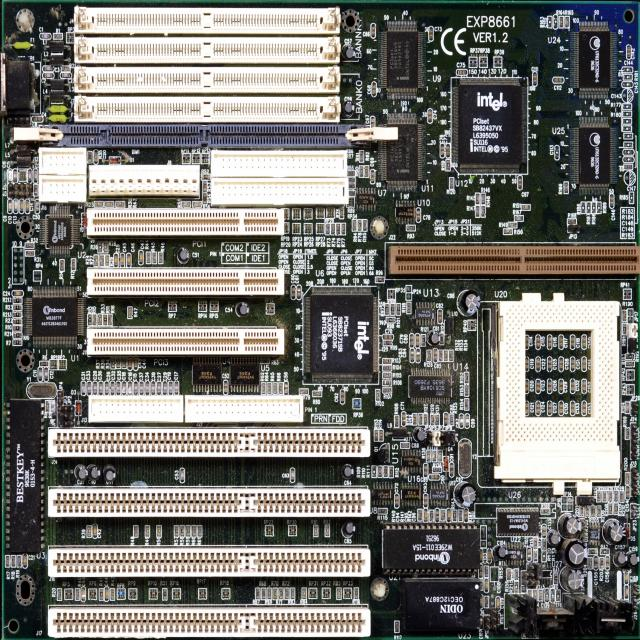Capacitor Jumper: (428, 331, 439, 345), (546, 376, 554, 394), (569, 354, 576, 372), (178, 467, 186, 482), (554, 144, 560, 164), (625, 46, 633, 60), (622, 79, 633, 89), (582, 376, 588, 394), (546, 357, 553, 372), (580, 357, 587, 372), (535, 378, 542, 393), (558, 355, 564, 372), (581, 399, 587, 416), (570, 399, 576, 416), (570, 334, 576, 350), (581, 334, 587, 350), (535, 400, 541, 416), (104, 586, 110, 602), (547, 332, 552, 351), (127, 379, 133, 394), (122, 380, 128, 395), (558, 401, 564, 416), (422, 463, 428, 478), (526, 547, 532, 562), (624, 570, 630, 585), (12, 168, 18, 183), (7, 199, 13, 214), (156, 379, 162, 393), (161, 381, 167, 395), (593, 556, 599, 570), (495, 596, 501, 610), (42, 73, 54, 80), (532, 72, 538, 86), (517, 177, 524, 189), (19, 199, 25, 213), (24, 200, 30, 214), (120, 254, 126, 268), (290, 286, 296, 300), (559, 334, 564, 350), (536, 357, 541, 373), (525, 378, 530, 394), (570, 378, 575, 394), (139, 379, 144, 395), (116, 380, 121, 396), (465, 413, 470, 429), (554, 76, 564, 84), (37, 368, 43, 381), (370, 115, 376, 128), (416, 209, 422, 222), (40, 33, 51, 40), (415, 333, 420, 348), (394, 493, 399, 508), (624, 585, 629, 600), (550, 588, 555, 603), (409, 334, 414, 348), (410, 349, 415, 363), (416, 349, 421, 363), (525, 402, 530, 416), (443, 412, 448, 426), (449, 463, 454, 477), (23, 554, 28, 568), (484, 578, 489, 592), (478, 595, 483, 609), (371, 82, 376, 96), (94, 150, 99, 164), (126, 254, 131, 268), (291, 468, 295, 485), (429, 474, 440, 480), (60, 73, 71, 79), (433, 349, 438, 362), (133, 356, 138, 369), (93, 381, 98, 394), (610, 195, 615, 208), (525, 334, 529, 350), (559, 378, 563, 394), (169, 380, 173, 396), (284, 382, 288, 398), (547, 400, 551, 416), (152, 379, 156, 394), (134, 380, 138, 395), (224, 380, 228, 395), (146, 381, 150, 396), (402, 411, 406, 426), (459, 415, 464, 427), (447, 508, 451, 523), (545, 587, 549, 602), (43, 64, 53, 70), (622, 67, 632, 73), (34, 168, 38, 183), (35, 200, 40, 212), (296, 286, 301, 298), (12, 290, 22, 296), (536, 335, 540, 349), (100, 380, 104, 394), (105, 380, 109, 394), (174, 381, 178, 395), (82, 382, 86, 396), (435, 508, 439, 522), (82, 588, 86, 602), (428, 109, 432, 123), (441, 144, 445, 158), (448, 144, 452, 158), (28, 169, 32, 183), (44, 368, 48, 381), (424, 494, 428, 507), (424, 509, 428, 522), (94, 525, 98, 538), (542, 525, 546, 538), (371, 170, 375, 183), (14, 200, 18, 213), (554, 16, 558, 29), (139, 250, 143, 263), (372, 23, 376, 36), (430, 28, 434, 40), (128, 356, 132, 368), (526, 356, 529, 372), (111, 382, 115, 394), (464, 510, 468, 522), (487, 550, 491, 562), (606, 557, 610, 569), (456, 70, 468, 74), (8, 169, 12, 181), (438, 310, 442, 322), (382, 335, 393, 339), (626, 486, 629, 500), (479, 564, 482, 578), (88, 382, 91, 395), (115, 254, 118, 266), (480, 550, 482, 562), (480, 616, 482, 628)
Connector: (48, 545, 372, 577), (49, 488, 369, 518), (17, 124, 380, 148), (49, 430, 370, 456), (73, 64, 343, 94), (51, 608, 365, 632), (74, 6, 340, 34), (77, 97, 339, 121), (75, 39, 338, 62), (86, 327, 286, 357), (89, 267, 284, 297), (91, 396, 303, 422), (87, 210, 283, 234), (213, 151, 349, 177), (212, 179, 348, 204), (90, 164, 200, 193), (40, 148, 86, 175), (37, 180, 87, 200)
IC: (450, 76, 528, 176), (305, 283, 379, 381), (4, 401, 45, 553), (382, 519, 480, 574), (400, 580, 480, 634), (25, 286, 86, 346), (380, 21, 426, 100), (378, 116, 426, 187), (571, 25, 619, 94), (575, 116, 618, 192), (41, 206, 80, 256), (406, 367, 454, 405), (192, 357, 223, 395), (496, 509, 536, 534), (371, 480, 394, 506), (400, 450, 422, 474), (357, 187, 378, 211), (430, 483, 451, 506), (396, 201, 416, 224), (415, 304, 436, 324), (401, 484, 420, 506)
Resistor Jumper: (312, 523, 319, 540), (55, 588, 63, 601), (345, 186, 355, 196), (161, 586, 167, 602), (272, 383, 279, 396), (74, 587, 80, 602), (417, 508, 423, 522), (53, 32, 63, 40), (260, 357, 270, 365), (382, 364, 392, 372), (87, 525, 93, 538), (353, 587, 359, 600), (375, 390, 381, 402), (388, 465, 394, 477), (376, 466, 382, 478), (619, 491, 625, 503), (532, 550, 538, 562), (541, 550, 547, 562), (336, 588, 342, 600), (623, 103, 631, 112), (622, 124, 631, 132), (94, 200, 103, 208), (586, 203, 592, 215), (514, 214, 523, 222), (378, 508, 388, 515), (623, 74, 633, 81), (201, 174, 211, 181), (520, 204, 530, 211), (475, 205, 480, 219), (406, 224, 416, 231), (587, 558, 593, 569), (87, 151, 93, 162), (340, 208, 346, 219), (567, 218, 578, 224), (97, 242, 103, 253), (375, 277, 386, 283), (379, 429, 384, 442), (452, 509, 457, 522), (285, 587, 290, 600), (359, 150, 364, 163), (560, 16, 565, 29), (508, 222, 517, 229), (443, 349, 448, 361), (122, 356, 127, 368), (625, 361, 635, 367), (382, 380, 392, 386), (261, 381, 266, 393), (267, 383, 272, 395), (279, 383, 284, 395), (382, 387, 392, 393), (50, 400, 55, 412), (412, 413, 417, 425), (394, 416, 399, 428), (625, 428, 630, 440), (400, 442, 410, 448), (432, 449, 437, 461), (372, 466, 377, 478), (383, 466, 388, 478), (429, 510, 434, 522), (324, 524, 329, 536), (145, 524, 150, 536), (156, 526, 162, 536), (588, 548, 598, 554), (5, 555, 10, 567), (17, 556, 22, 568), (256, 587, 261, 599), (291, 588, 296, 600), (61, 66, 71, 72), (449, 177, 454, 189), (33, 184, 38, 196), (629, 192, 634, 204), (104, 202, 114, 208), (591, 202, 596, 214), (100, 254, 105, 266), (93, 255, 98, 267), (12, 304, 22, 310), (396, 304, 401, 316), (13, 332, 21, 339), (100, 588, 104, 602), (268, 588, 272, 602), (128, 305, 132, 319), (116, 357, 121, 368), (464, 399, 469, 410), (374, 430, 379, 441), (596, 491, 601, 502), (590, 506, 595, 517), (514, 569, 519, 580), (506, 569, 511, 580), (278, 587, 283, 598), (538, 590, 543, 601), (624, 156, 635, 161), (481, 193, 486, 204), (475, 193, 480, 204), (115, 202, 126, 207), (564, 17, 569, 28), (152, 252, 157, 263), (105, 255, 110, 266), (60, 260, 65, 271), (626, 354, 635, 360), (383, 358, 392, 364), (40, 361, 49, 367), (541, 508, 550, 514), (503, 228, 512, 234), (25, 243, 34, 249), (25, 250, 34, 256), (13, 297, 22, 303), (13, 311, 22, 317), (438, 450, 442, 463), (614, 489, 618, 502), (198, 524, 202, 537), (181, 525, 185, 538), (581, 201, 585, 214), (104, 241, 108, 254), (72, 258, 76, 271), (382, 340, 392, 345), (464, 386, 469, 396), (600, 549, 610, 554), (514, 582, 519, 592), (622, 112, 632, 117), (624, 133, 634, 138), (624, 143, 634, 148), (192, 201, 202, 206), (158, 252, 163, 262), (12, 326, 22, 331), (440, 333, 444, 345), (438, 350, 442, 362), (448, 350, 452, 362), (427, 350, 431, 362), (111, 358, 115, 370), (418, 413, 422, 425), (424, 413, 428, 425), (450, 414, 454, 426), (430, 414, 434, 426), (602, 490, 606, 502), (596, 506, 600, 518), (458, 510, 462, 522), (192, 524, 196, 536), (134, 525, 138, 537), (600, 557, 604, 569), (484, 565, 488, 577), (302, 588, 306, 600), (533, 590, 537, 602), (556, 590, 560, 602), (395, 621, 399, 633), (360, 166, 364, 178), (346, 170, 354, 176), (347, 177, 355, 183), (348, 184, 356, 190), (352, 222, 358, 230), (548, 17, 552, 29), (622, 310, 626, 322), (88, 314, 92, 326), (622, 323, 626, 335), (426, 451, 431, 460), (13, 319, 22, 324), (421, 334, 425, 345), (46, 401, 50, 412), (626, 473, 630, 484), (608, 491, 612, 502), (273, 587, 277, 598), (111, 589, 115, 600), (203, 181, 207, 192), (203, 193, 207, 204), (597, 201, 601, 212), (481, 207, 485, 218), (336, 224, 340, 235), (147, 252, 151, 263), (391, 304, 395, 315), (14, 340, 22, 345), (382, 374, 392, 378), (625, 403, 629, 413), (435, 415, 439, 425), (432, 468, 442, 472), (609, 504, 613, 514), (441, 510, 445, 520), (534, 538, 538, 548), (542, 540, 546, 550), (624, 150, 634, 154), (446, 160, 450, 170), (564, 184, 568, 194), (182, 202, 190, 207), (342, 223, 346, 233), (326, 224, 330, 234), (385, 305, 389, 315), (99, 314, 103, 324), (92, 315, 96, 325), (187, 524, 190, 537), (175, 524, 178, 537), (332, 222, 335, 235), (465, 372, 468, 384), (12, 555, 15, 567), (262, 588, 265, 600), (622, 120, 631, 124), (366, 166, 369, 178), (109, 313, 112, 325), (386, 318, 395, 322), (580, 506, 583, 517), (358, 219, 361, 230), (104, 314, 107, 325), (614, 504, 617, 514), (585, 506, 588, 516), (363, 220, 366, 230), (407, 302, 410, 312)
iC: (228, 358, 262, 394)
